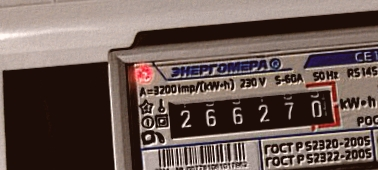0: (309, 98, 323, 120)
2: (178, 108, 193, 130), (256, 102, 270, 124)
6: (204, 108, 218, 129), (230, 105, 244, 125)
7: (281, 100, 296, 122)
screen: (157, 77, 348, 149)
